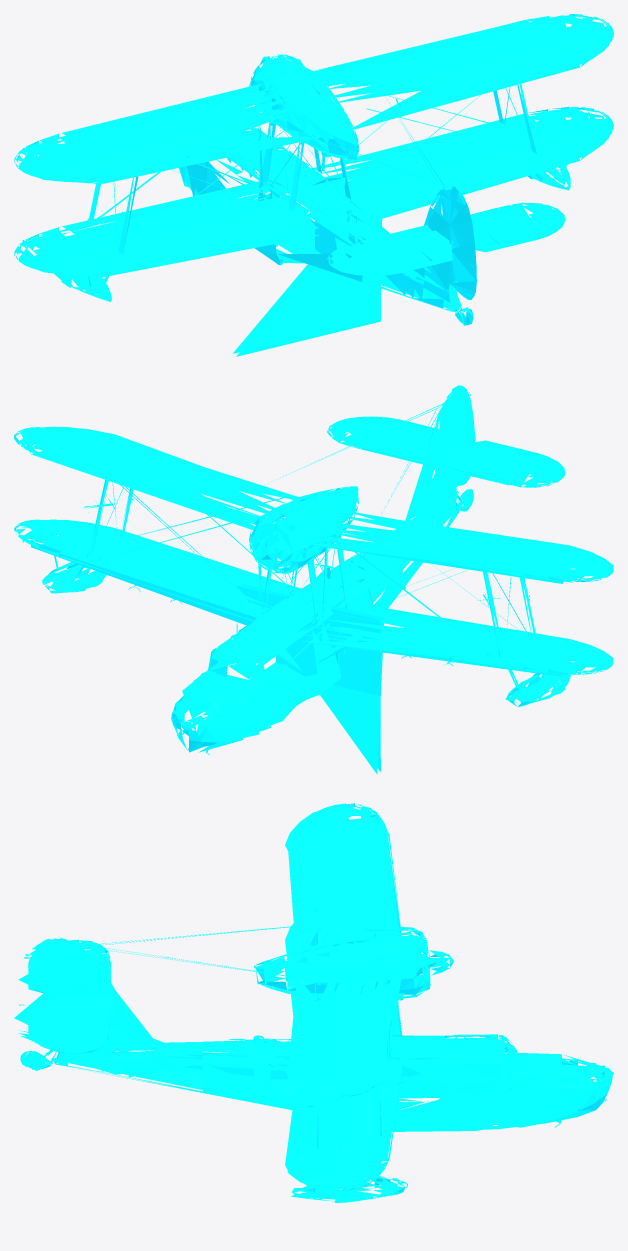
File: PBAS007.glb
3 renders of one model, top to bottom at view 1: azimuth 30°, elevation 25°; view 2: azimuth 150°, elevation 25°; view 3: azimuth 270°, elevation 25°, orthographic.
Visible parts, largest first — view 1: misc; view 2: misc; view 3: misc.
Part boxes in pixels (bbox=[...]): misc: bbox=[14, 14, 613, 356]; misc: bbox=[14, 385, 613, 774]; misc: bbox=[14, 803, 613, 1202].
Size of the model in its own units: 0.9345 by 0.4002 by 0.8104.
